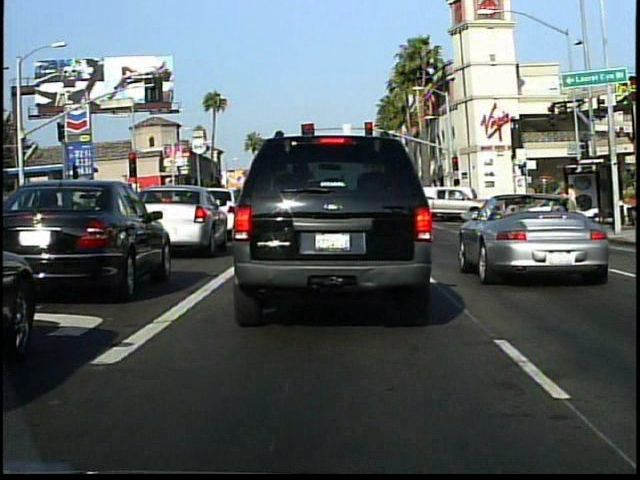person: (560, 179, 583, 231)
